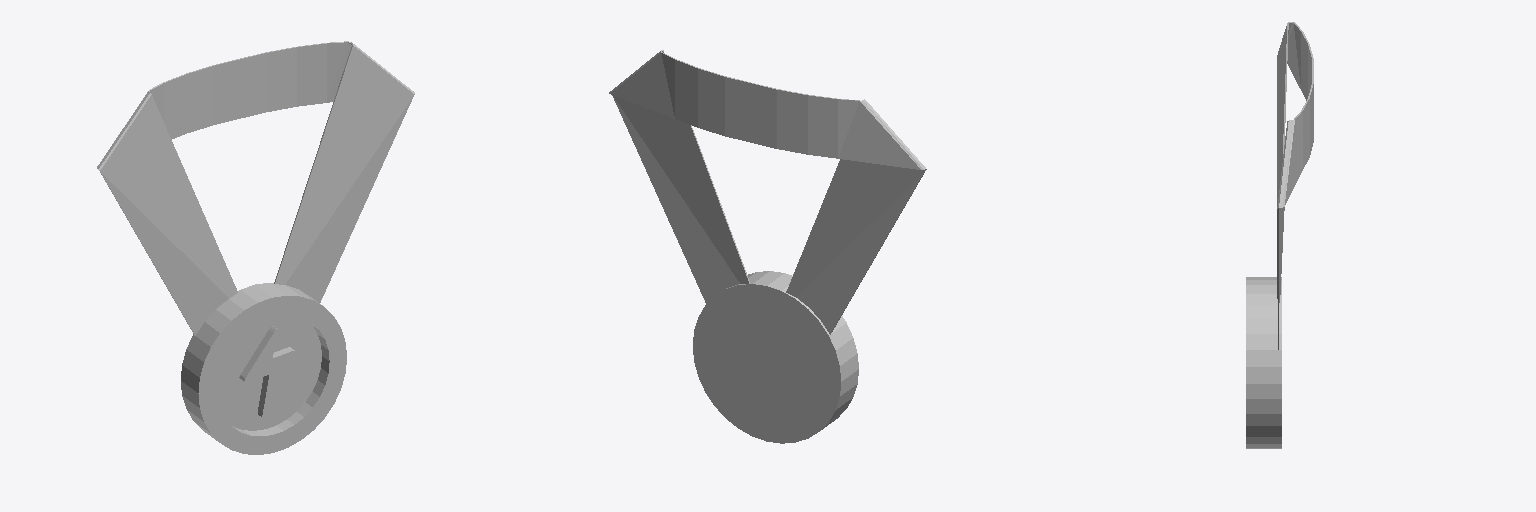
File: EnergyMedal001.obj
The picture shows the model from 3 angles: view 1: azimuth 30°, elevation 25°; view 2: azimuth 150°, elevation 25°; view 3: azimuth 270°, elevation 25°; orthographic projection.
Parts seen in each view (by area): view 1: _2, _1, _3, default; view 2: _2, default, _3; view 3: default, _3, _2.
Boxes of the visible parts, x1=… form: _2: x1=97, y1=42, x2=414, y2=335; _1: x1=198, y1=296, x2=346, y2=454; _3: x1=149, y1=41, x2=351, y2=139; default: x1=181, y1=283, x2=329, y2=440; _2: x1=612, y1=50, x2=926, y2=334; default: x1=693, y1=271, x2=858, y2=443; _3: x1=609, y1=51, x2=923, y2=170; default: x1=1246, y1=277, x2=1281, y2=448; _3: x1=1283, y1=22, x2=1313, y2=206; _2: x1=1277, y1=22, x2=1292, y2=349.
Bounding box in the file's own units: 4.25 × 4.75 × 0.7827.